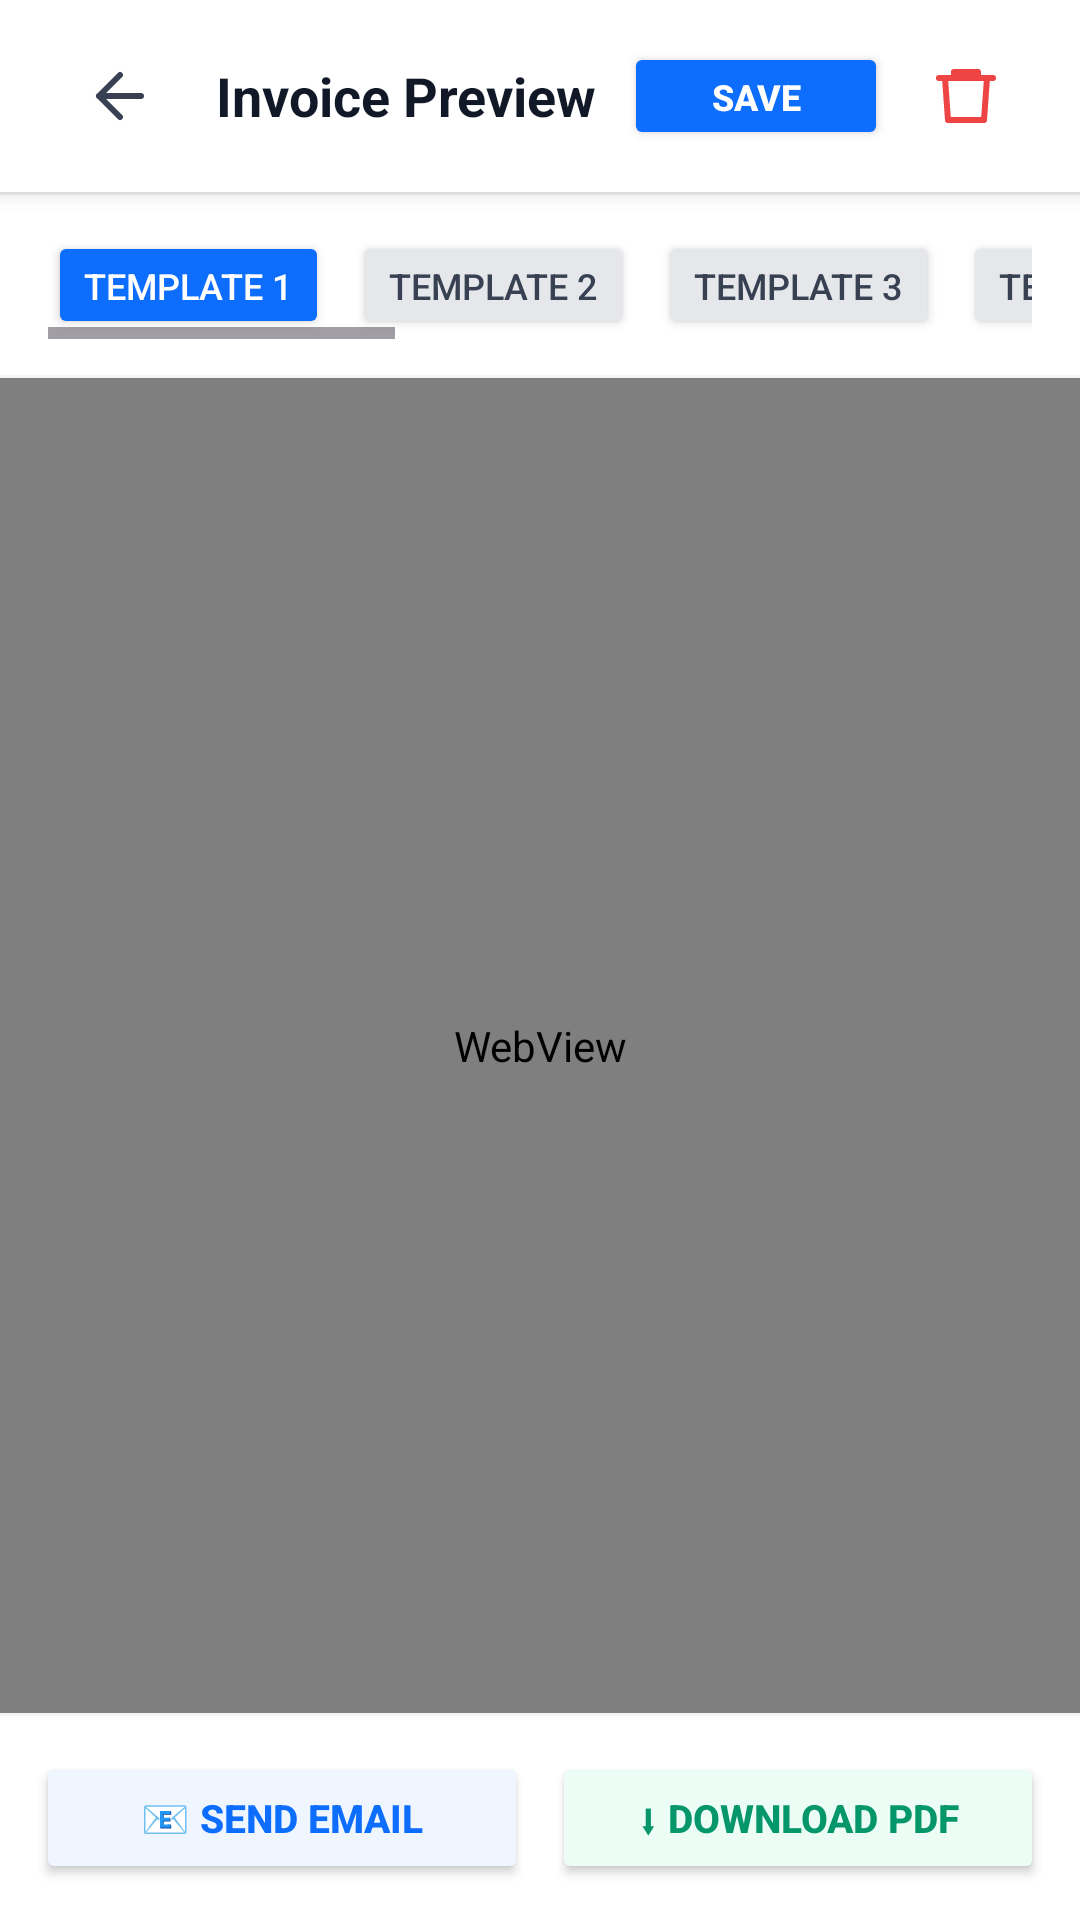

Locate icon controls on the screen. Image size 1080 × 1920, boxes as (x1, y1, x2, y2).
Back: (96, 72, 144, 120)
Delete: (936, 69, 996, 123)
